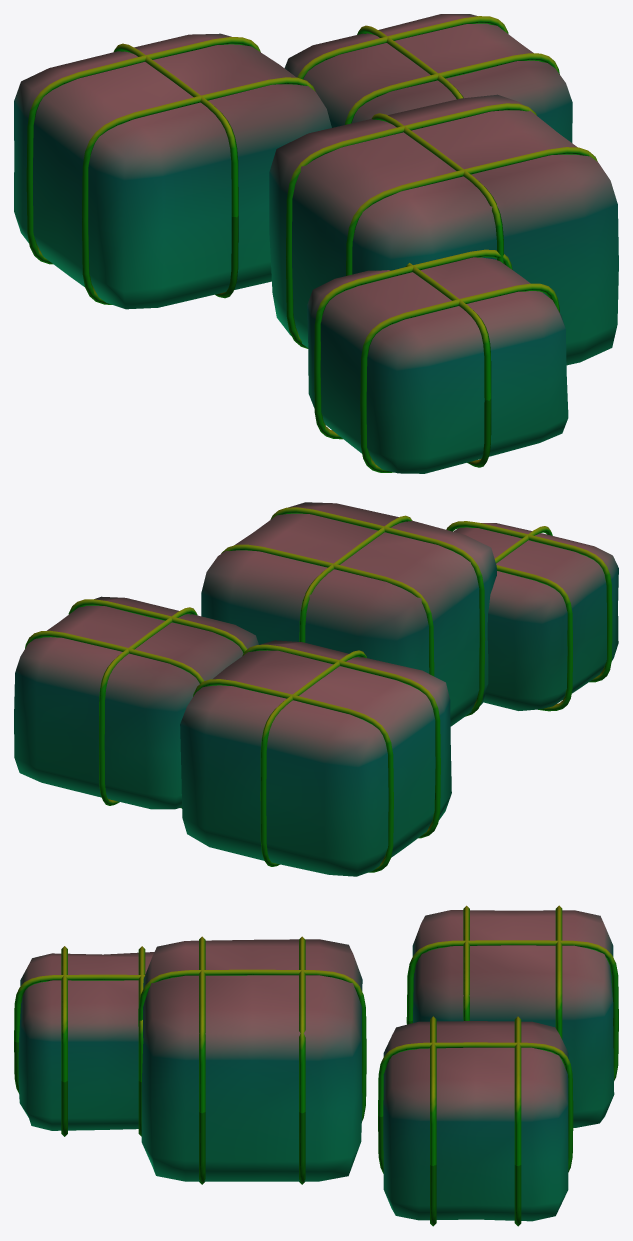
Rendered from trader_cargo.glb.
The picture shows the model from 3 angles, top to bottom: view 1: azimuth 30°, elevation 25°; view 2: azimuth 150°, elevation 25°; view 3: azimuth 270°, elevation 25°; orthographic projection. The views are drawn at different scales.
Visible parts, largest first — view 1: trader_cargo; view 2: trader_cargo; view 3: trader_cargo.
Boxes of the visible parts, box(x1,y1,x2,y2) form: trader_cargo: box(14, 14, 618, 473); trader_cargo: box(14, 502, 618, 876); trader_cargo: box(14, 905, 618, 1226).
Size of what is drawn, in the model's own units: 2.39 by 1.03 by 3.25.
